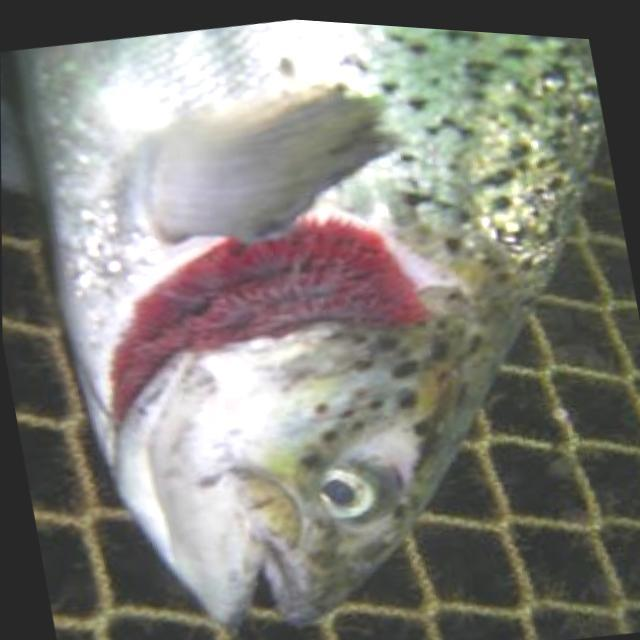Gill Disease: (9, 34, 586, 621)
